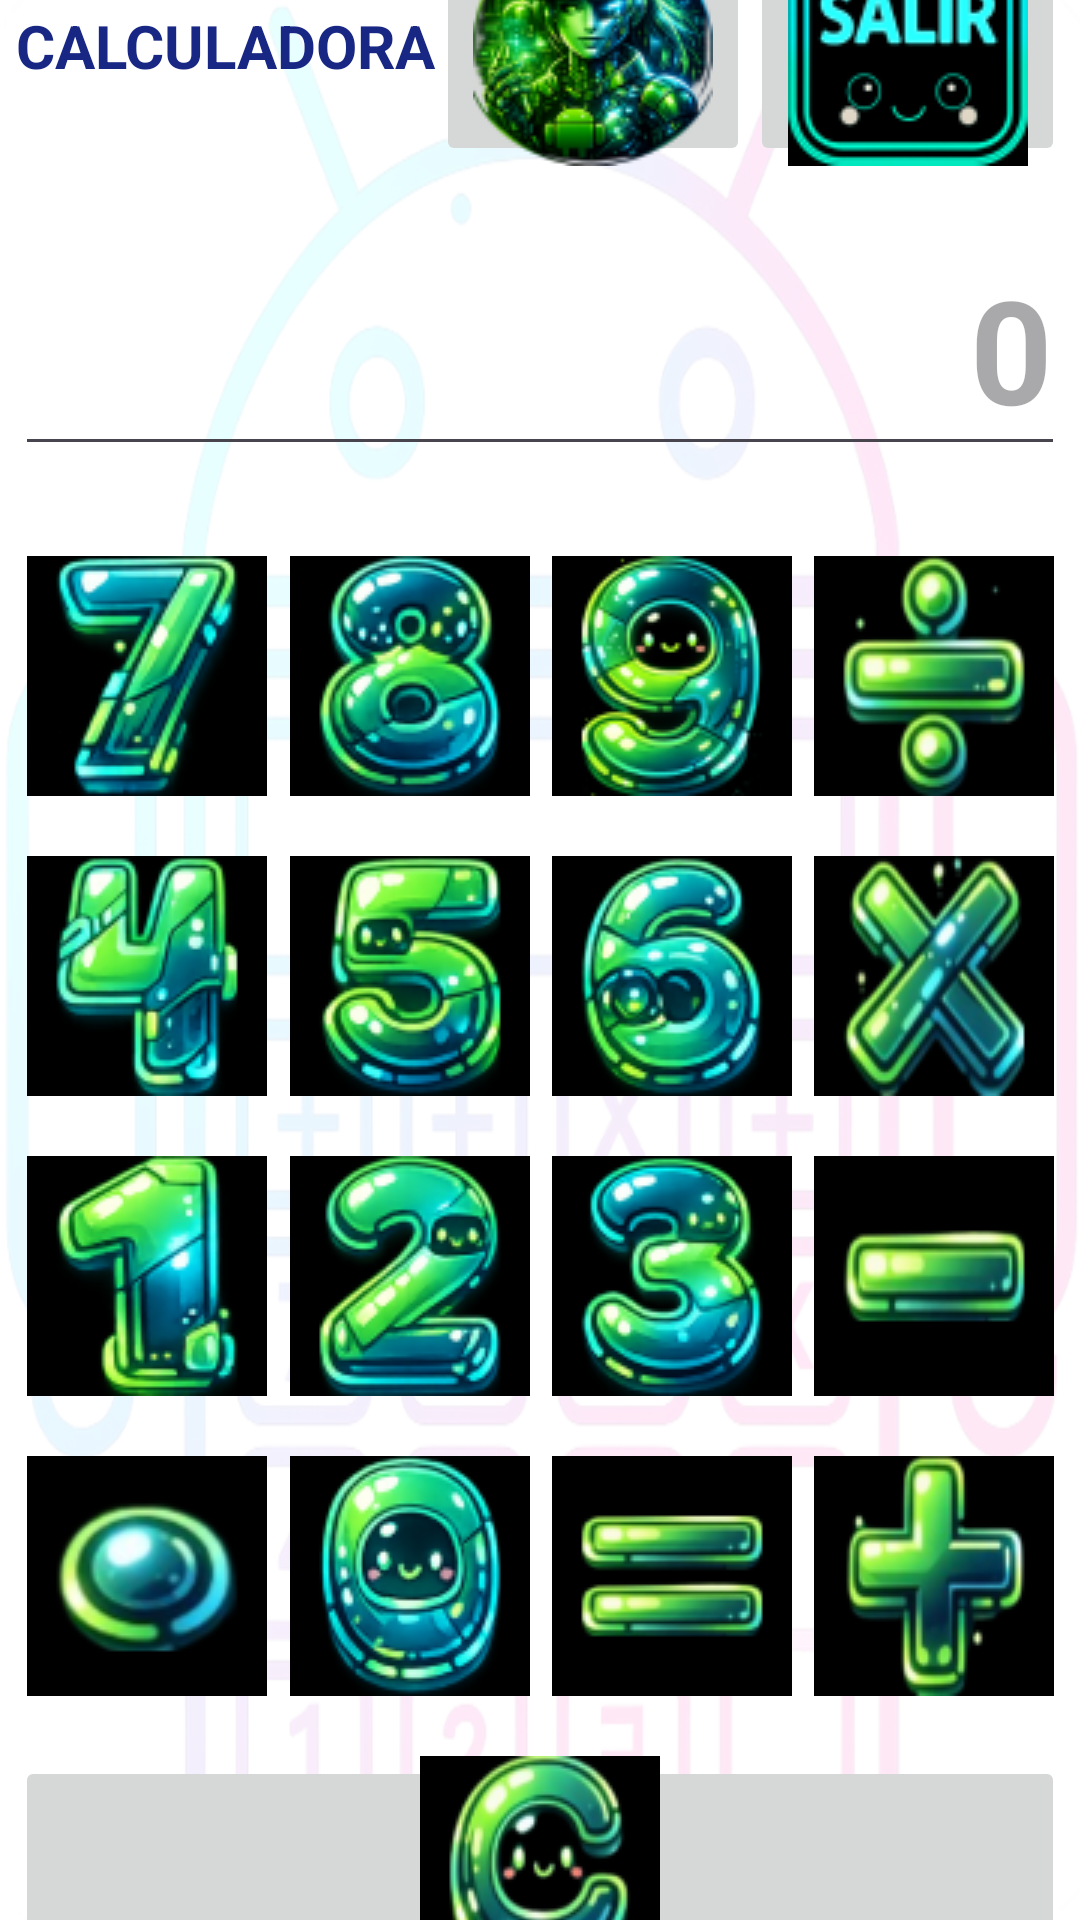

Where to tap for icons on this 1080×1920 app screen, as (x=x, y=y):
Boton Dividir: (x=934, y=676)
Boton Mas: (x=934, y=1576)
Boton Multiplicar: (x=934, y=976)
Boton Restar: (x=934, y=1276)
btnicero: (x=410, y=1576)
btnidos: (x=410, y=1276)
Igual: (x=672, y=1576)
Numero Cinco: (x=410, y=976)
Numero Cuatro: (x=147, y=976)
Numero Nueve: (x=672, y=676)
Numero Ocho: (x=410, y=676)
Numero Seis: (x=672, y=976)
Numero tres: (x=672, y=1276)
Numero Uno: (x=147, y=1276)
Numerosiete: (x=147, y=676)
Punto: (x=147, y=1576)
